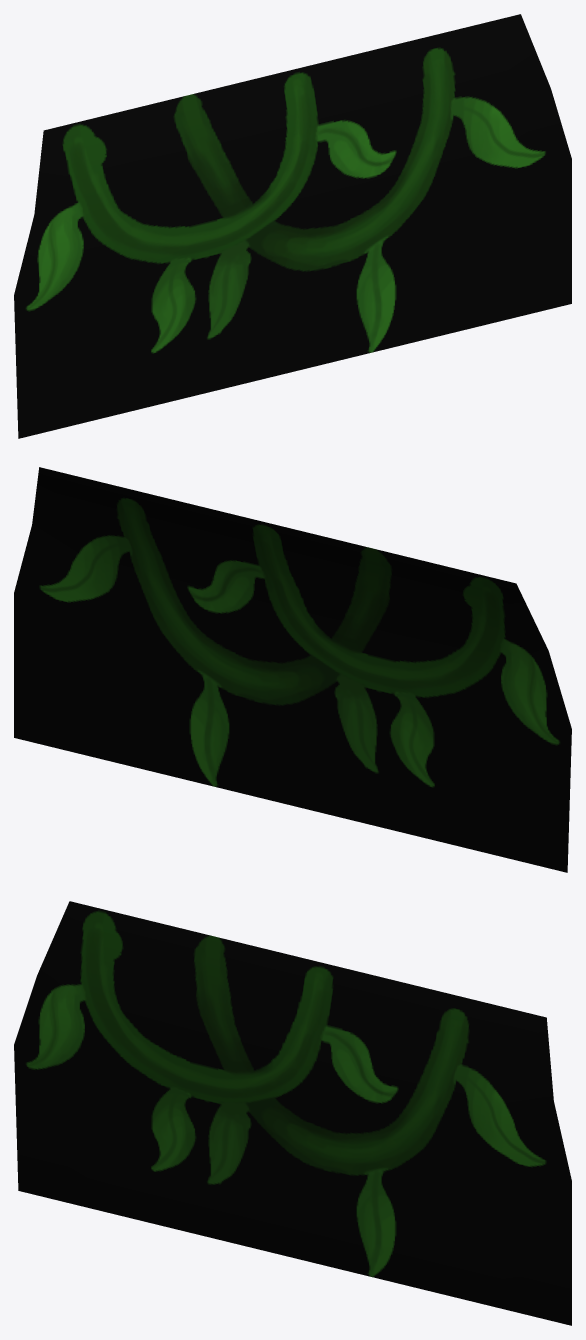
The model's file is sm_env_vineloops.fbx.
The picture shows the model from 3 angles, top to bottom: view 1: azimuth 30°, elevation 25°; view 2: azimuth 150°, elevation 25°; view 3: azimuth 330°, elevation 25°; orthographic projection.
Parts seen in each view (by area): view 1: sm_env_vineloops; view 2: sm_env_vineloops; view 3: sm_env_vineloops.
Boxes of the visible parts, x1,y1,x2,y2 form: sm_env_vineloops: [14, 14, 571, 438]; sm_env_vineloops: [14, 467, 571, 872]; sm_env_vineloops: [14, 901, 571, 1325].
Bounding box in the file's own units: 122 × 60.74 × 4.93.
